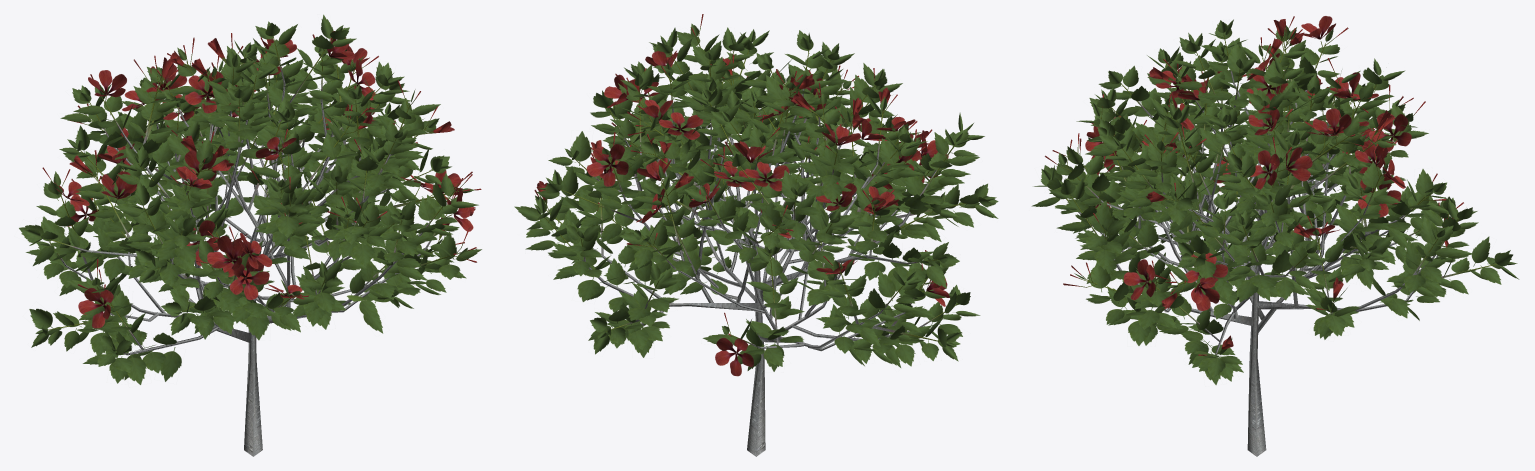
The model's file is hibiscus_hd.glb.
3 views of the same model, side by side, from view 1: azimuth 30°, elevation 25°; view 2: azimuth 150°, elevation 25°; view 3: azimuth 270°, elevation 25° (orthographic).
Parts seen in each view (by area): view 1: Hibiscus_rosa_sinensis_HD_w; view 2: Hibiscus_rosa_sinensis_HD_w; view 3: Hibiscus_rosa_sinensis_HD_w.
Part boxes in pixels (x1,y1,x2,y2): Hibiscus_rosa_sinensis_HD_w: (19,14,481,456); Hibiscus_rosa_sinensis_HD_w: (514,14,998,456); Hibiscus_rosa_sinensis_HD_w: (1031,16,1519,456).
Size of the model in its own units: 3.34 by 3.27 by 3.49.
9 materials, 9 textured.
